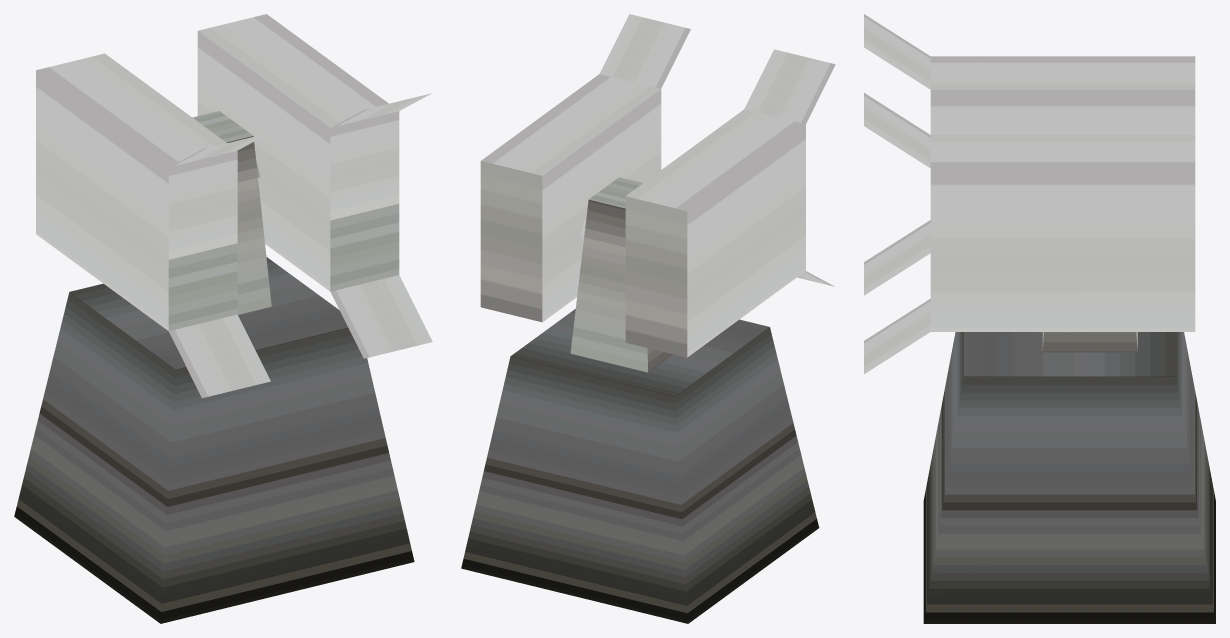
File: lrmturret_hdtex.glb
The picture shows the model from 3 angles, left to right: view 1: azimuth 30°, elevation 25°; view 2: azimuth 150°, elevation 25°; view 3: azimuth 270°, elevation 25°; orthographic projection. The views are drawn at different scales.
Parts seen in each view (by area): view 1: Turret, Base; view 2: Turret, Base; view 3: Turret, Base.
Boxes of the visible parts, x1,y1,x2,y2 form: Turret: [36, 14, 432, 398]; Base: [14, 257, 414, 623]; Turret: [480, 14, 835, 372]; Base: [461, 309, 819, 623]; Turret: [864, 14, 1195, 373]; Base: [923, 332, 1215, 623].
Size of the model in its own units: 4.6 by 8.55 by 5.54.
Materials: 2 (2 with a texture image).
